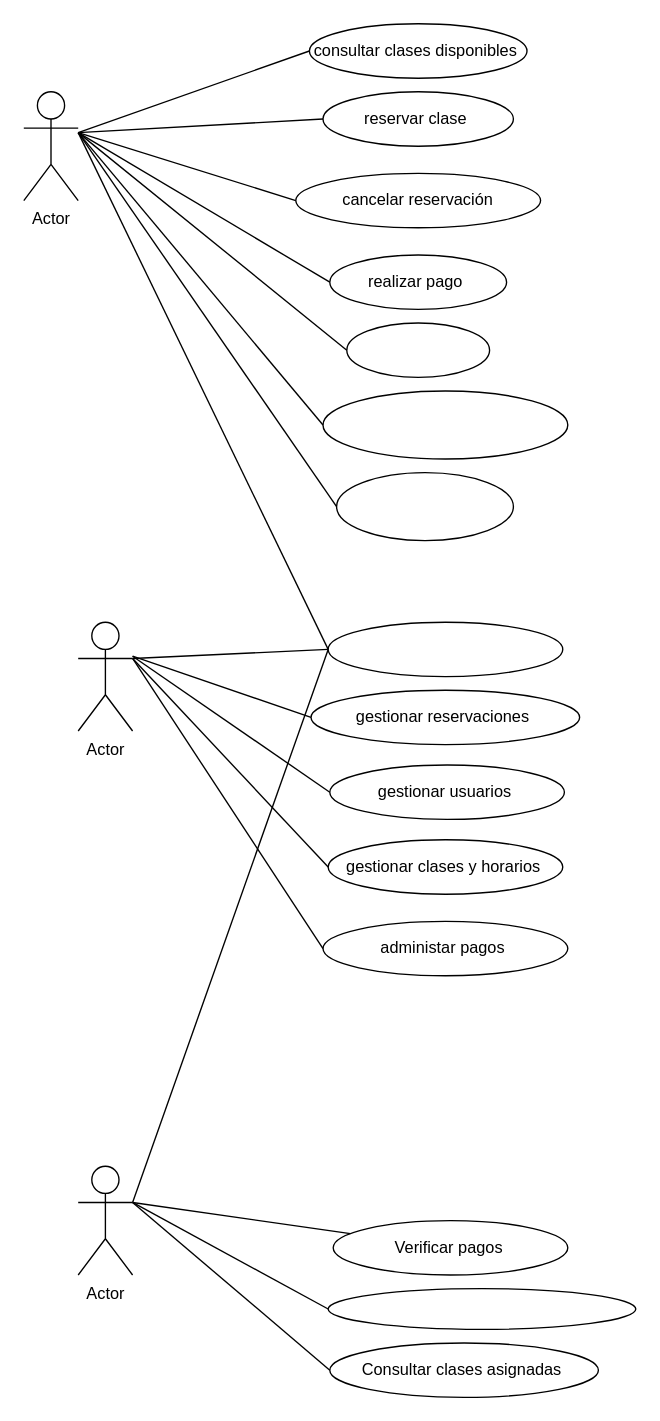
The diagram is 660 pixels wide and 1421 high, and some of its shapes have lost their labels. The centre of each missing label's shape, as x and y in pixels:
"consultar historial" belongs at point (424, 506).
"consultar puntos de fidelidad" belongs at point (445, 424).
"Iniciar sesión" belongs at point (445, 649).
"Registar asistencia" belongs at point (481, 1308).
"registrarse" belongs at point (417, 349).
